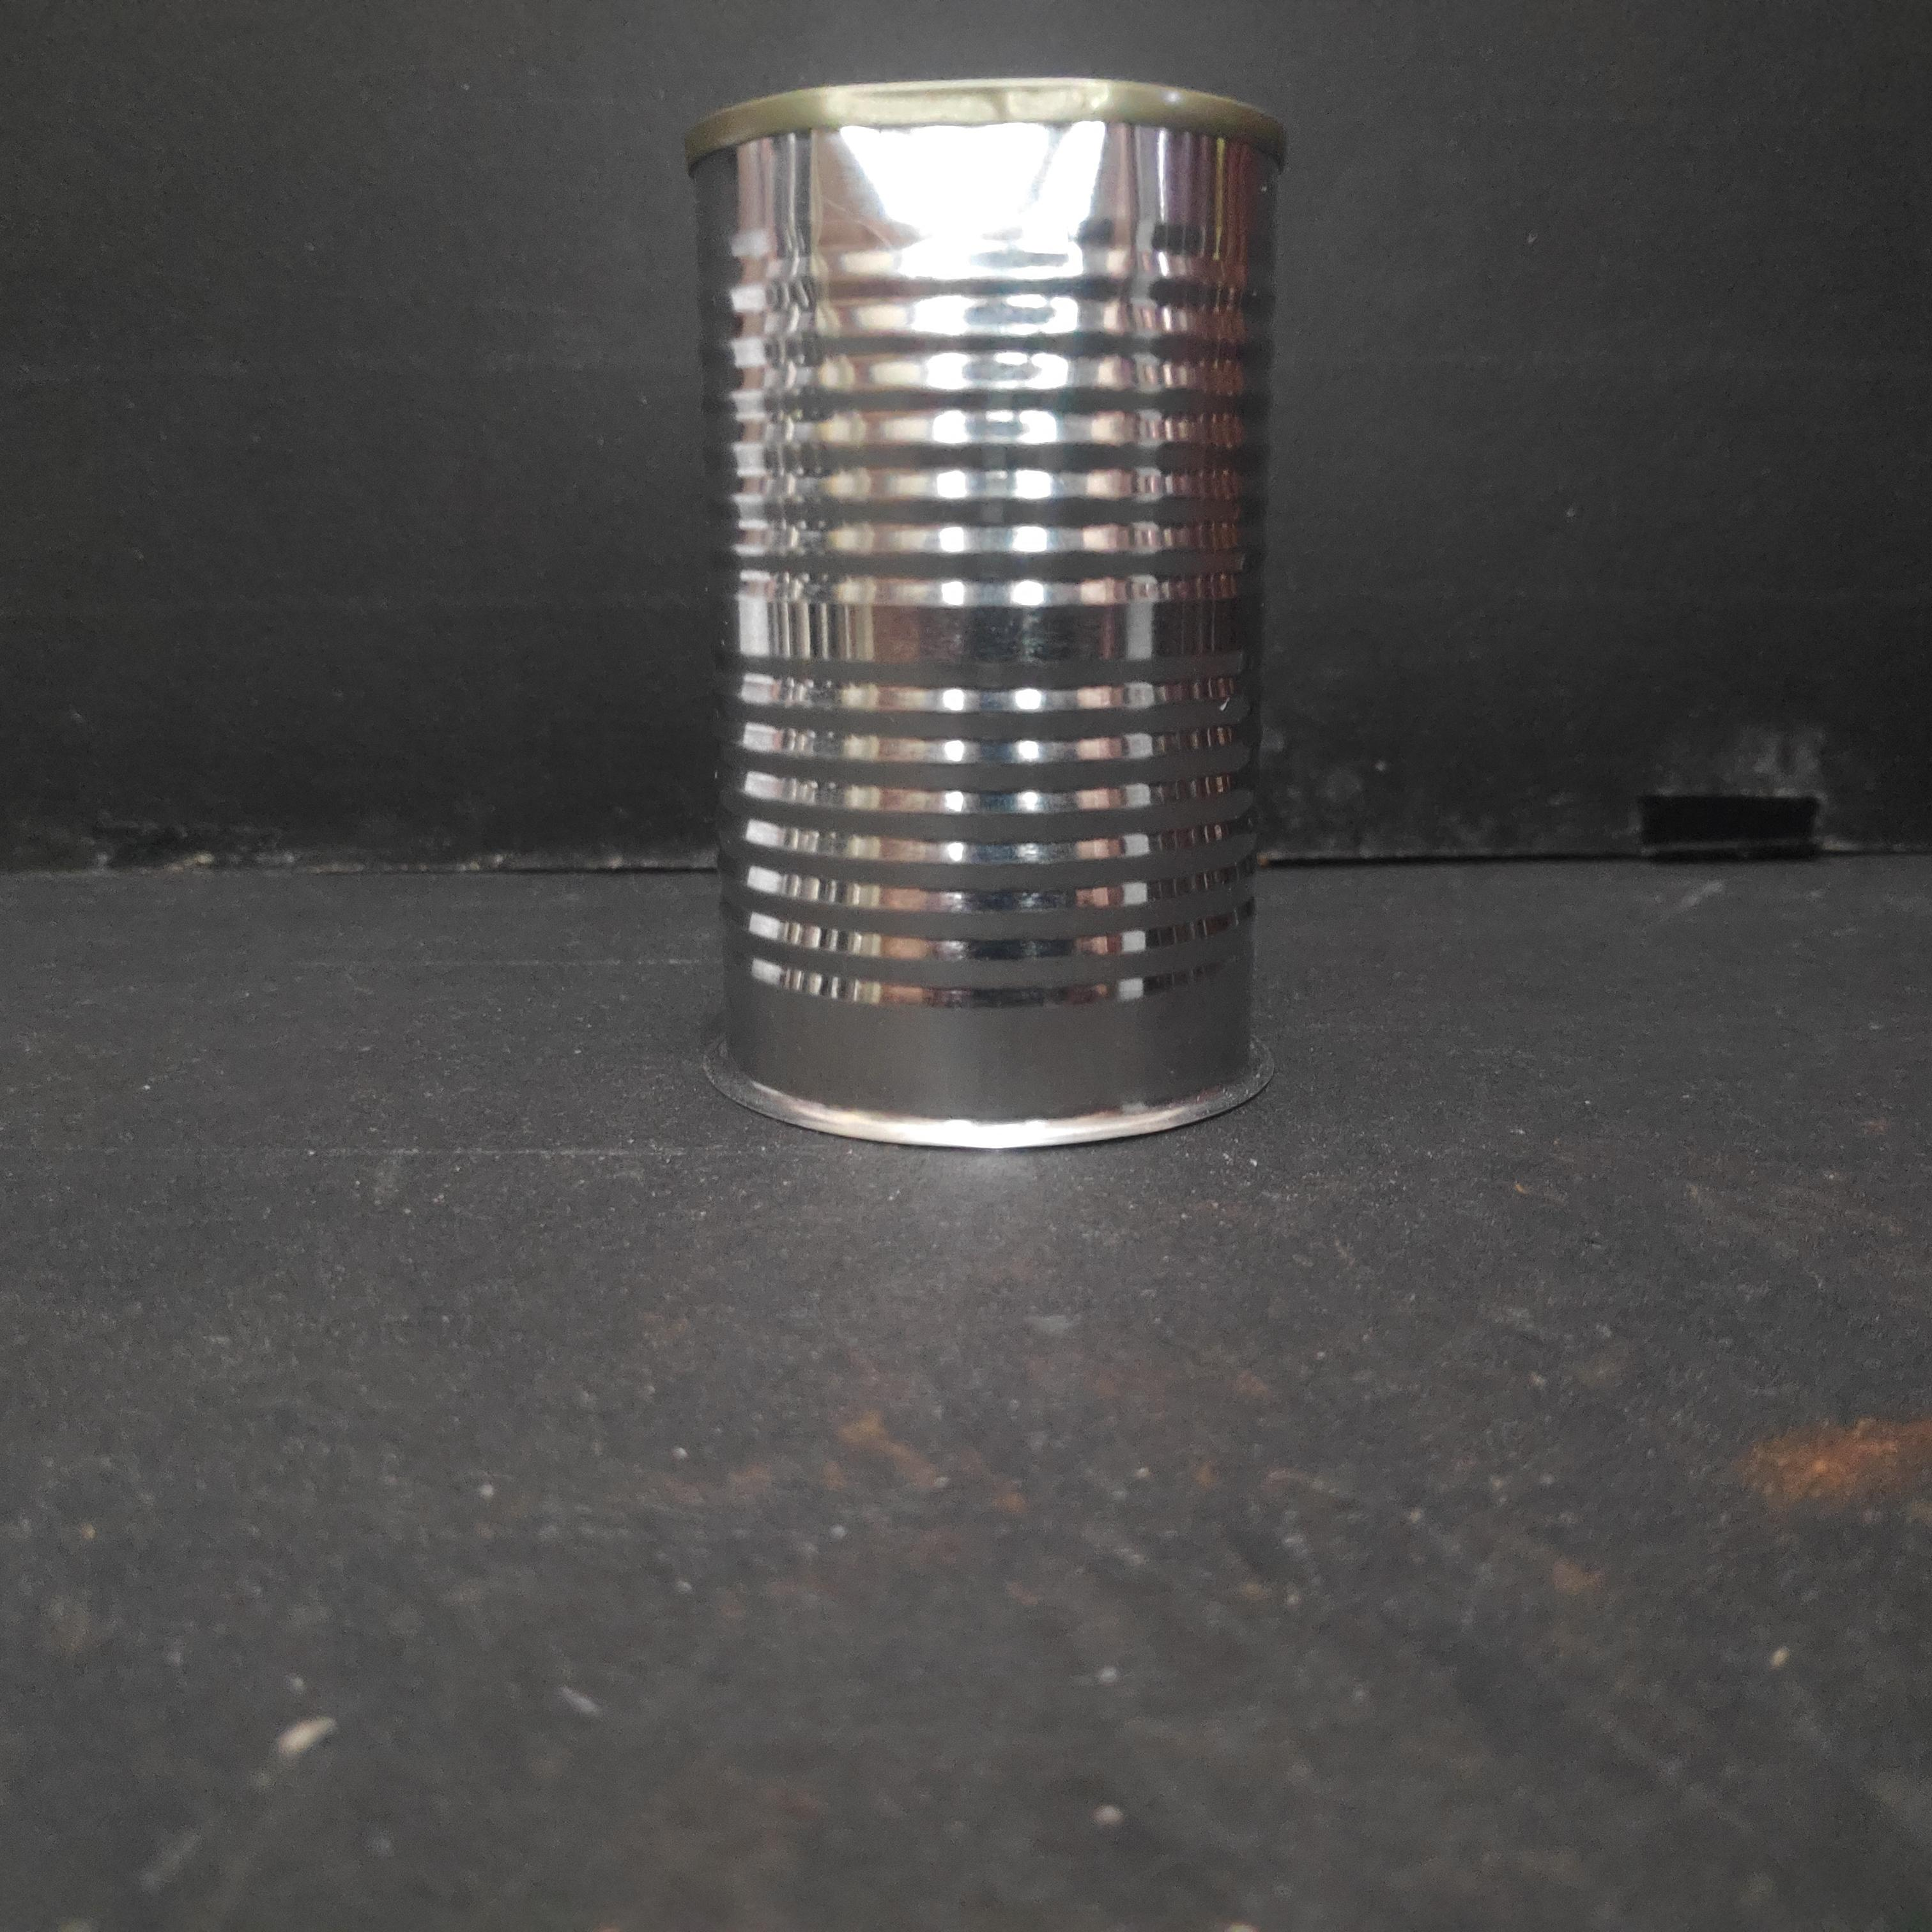Minor Defect: (672, 68, 1307, 1156)
